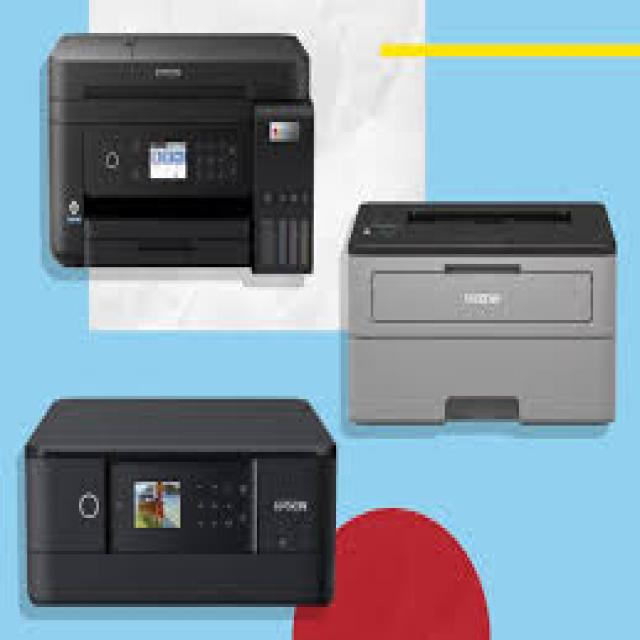printer: (23, 21, 324, 293), (12, 375, 346, 615), (334, 183, 628, 437)
